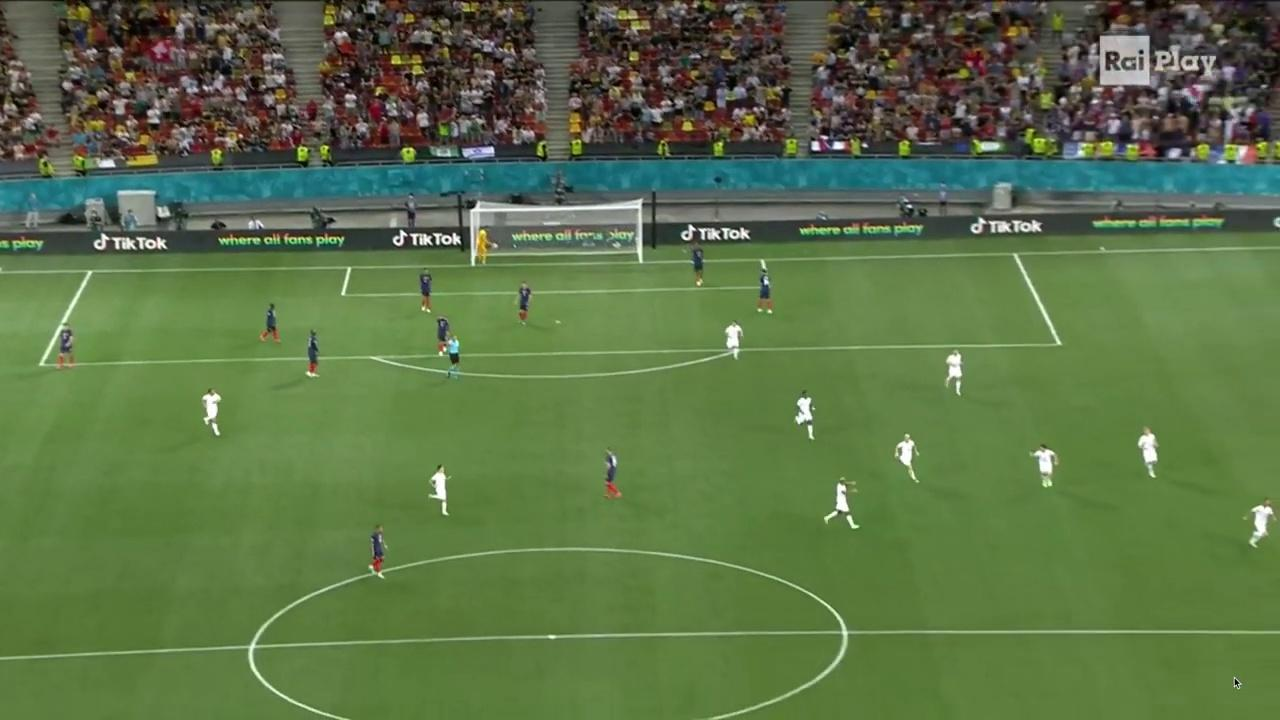goalkeeper: (475, 225, 491, 265)
player: (822, 476, 862, 530), (1241, 496, 1278, 550), (1027, 443, 1059, 489), (426, 463, 453, 516), (894, 432, 921, 484), (791, 388, 817, 440), (1136, 425, 1160, 479), (367, 523, 389, 581), (602, 447, 624, 500), (200, 387, 222, 437), (55, 322, 76, 373), (258, 302, 282, 345), (944, 348, 964, 397), (723, 318, 745, 361), (304, 328, 322, 379), (513, 280, 533, 325), (755, 268, 773, 315), (688, 241, 705, 288), (417, 267, 433, 314), (435, 314, 450, 358)
referee: (445, 334, 462, 380)
